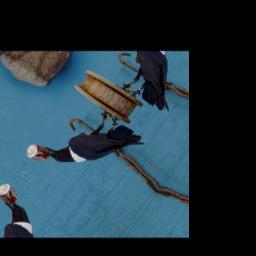Crow: (41, 95, 150, 195)
